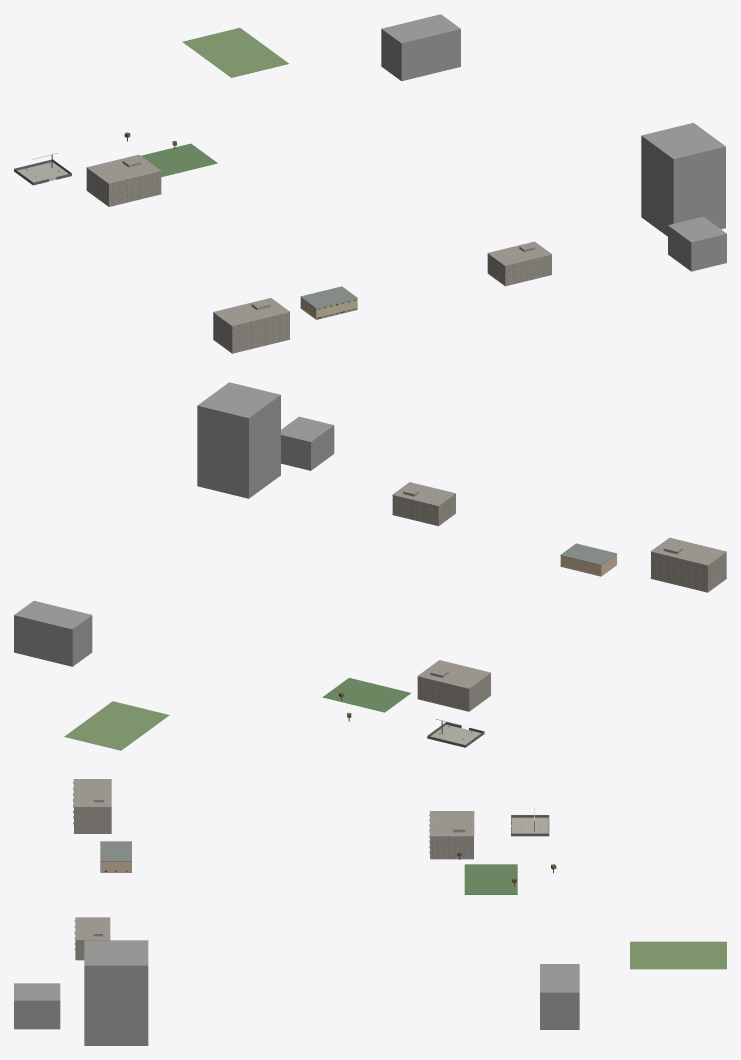
File: cell_6_-4_lod1.gltf
3 renders of one model, top to bottom at view 1: azimuth 30°, elevation 25°; view 2: azimuth 150°, elevation 25°; view 3: azimuth 270°, elevation 25°, orthographic.
Visible parts, largest first — view 1: MASS_SHARED_002, LEKKI_APARTMENT_COURT_E, LEKKI_RETAINED_OPEN_PARCEL, LEKKI_NEIGHBOURHOOD_PARK_A, LEKKI_NEIGHBOURHOOD_RETAIL_01, LEKKI_SITE_PHASE_02_PAD; view 2: MASS_SHARED_002, LEKKI_APARTMENT_COURT_E, LEKKI_RETAINED_OPEN_PARCEL, LEKKI_NEIGHBOURHOOD_PARK_A, LEKKI_NEIGHBOURHOOD_RETAIL_01; view 3: MASS_SHARED_002, LEKKI_APARTMENT_COURT_E, LEKKI_RETAINED_OPEN_PARCEL, LEKKI_NEIGHBOURHOOD_PARK_A, LEKKI_NEIGHBOURHOOD_RETAIL_01, LEKKI_SITE_PHASE_02_PAD.
Part boxes in pixels (box(x1,y1,x2,y2)): MASS_SHARED_002: box(381, 14, 726, 271); LEKKI_APARTMENT_COURT_E: box(86, 154, 552, 353); LEKKI_RETAINED_OPEN_PARCEL: box(182, 27, 288, 77); LEKKI_NEIGHBOURHOOD_PARK_A: box(141, 143, 217, 176); LEKKI_NEIGHBOURHOOD_RETAIL_01: box(300, 286, 357, 319); LEKKI_SITE_PHASE_02_PAD: box(17, 162, 68, 182); MASS_SHARED_002: box(14, 382, 334, 666); LEKKI_APARTMENT_COURT_E: box(392, 482, 726, 711); LEKKI_RETAINED_OPEN_PARCEL: box(64, 701, 169, 750); LEKKI_NEIGHBOURHOOD_PARK_A: box(322, 678, 410, 712); LEKKI_NEIGHBOURHOOD_RETAIL_01: box(560, 543, 617, 576); MASS_SHARED_002: box(14, 940, 579, 1045); LEKKI_APARTMENT_COURT_E: box(73, 779, 474, 960); LEKKI_RETAINED_OPEN_PARCEL: box(630, 941, 726, 969); LEKKI_NEIGHBOURHOOD_PARK_A: box(464, 864, 517, 894); LEKKI_NEIGHBOURHOOD_RETAIL_01: box(100, 841, 131, 872); LEKKI_SITE_PHASE_02_PAD: box(511, 817, 548, 833).
Size of the model in its own units: 363 by 56.8 by 456.
13 materials, 1 textured.
